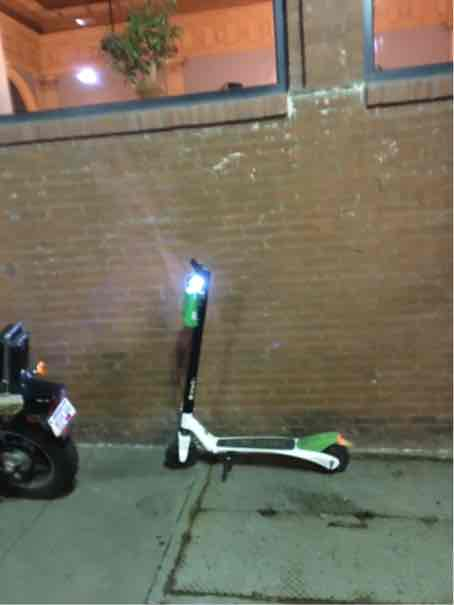scooter: (157, 235, 355, 495)
